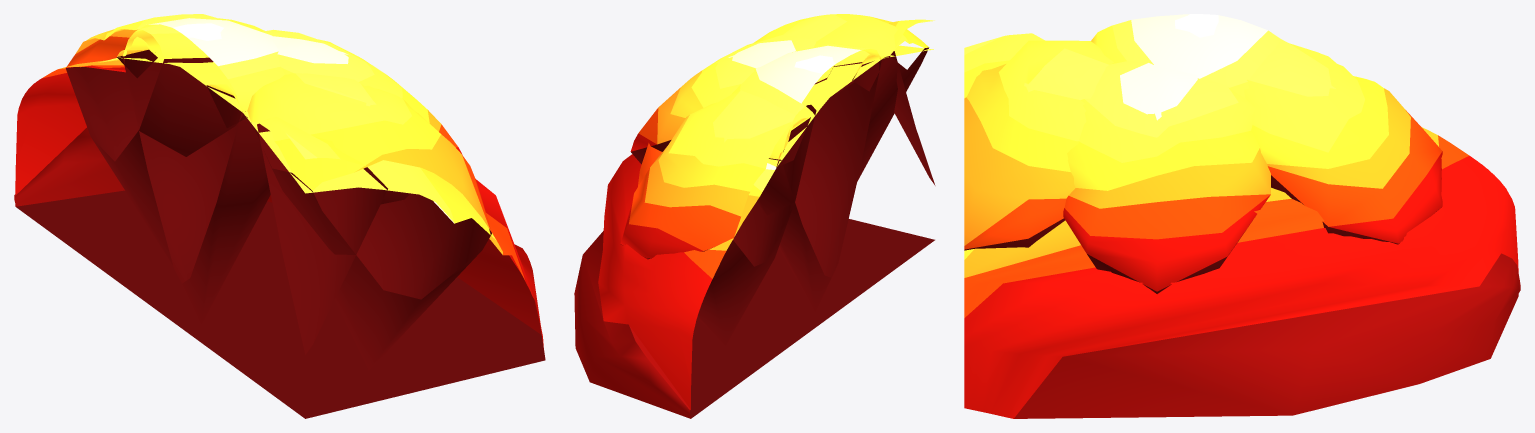
File: shot_dflame_17.glb
The picture shows the model from 3 angles, left to right: view 1: azimuth 30°, elevation 25°; view 2: azimuth 150°, elevation 25°; view 3: azimuth 270°, elevation 25°; orthographic projection. The views are drawn at different scales.
Visible parts, largest first — view 1: dflame_big0_fire_b17, dflame_big0_billow6_b17, dflame_big0_billow0_b17, dflame_big0_billow4_b17, dflame_big0_billow2_b17, dflame_big0_billow3_b17, dflame_big0_billow5_b17, dflame_big0_billow1_b17; view 2: dflame_big0_fire_b17, dflame_big0_billow4_b17, dflame_big0_billow0_b17, dflame_big0_billow6_b17, dflame_big0_billow3_b17, dflame_big0_billow2_b17, dflame_big0_billow5_b17, dflame_big0_billow1_b17; view 3: dflame_big0_fire_b17, dflame_big0_billow3_b17, dflame_big0_billow4_b17, dflame_big0_billow6_b17, dflame_big0_billow0_b17, dflame_big0_billow2_b17.
Part boxes in pixels (x1,y1,x2,y2): dflame_big0_fire_b17: (14, 51, 545, 418); dflame_big0_billow6_b17: (247, 73, 491, 370); dflame_big0_billow0_b17: (122, 18, 284, 323); dflame_big0_billow4_b17: (65, 14, 264, 264); dflame_big0_billow2_b17: (257, 116, 387, 354); dflame_big0_billow3_b17: (261, 29, 462, 311); dflame_big0_billow5_b17: (117, 36, 157, 78); dflame_big0_billow1_b17: (206, 84, 247, 128); dflame_big0_fire_b17: (574, 45, 934, 418); dflame_big0_billow4_b17: (620, 90, 816, 345); dflame_big0_billow0_b17: (731, 43, 881, 311); dflame_big0_billow6_b17: (754, 14, 929, 181); dflame_big0_billow3_b17: (630, 35, 834, 164); dflame_big0_billow2_b17: (889, 19, 935, 185); dflame_big0_billow5_b17: (776, 117, 810, 167); dflame_big0_billow1_b17: (852, 54, 886, 91); dflame_big0_fire_b17: (964, 127, 1520, 418); dflame_big0_billow3_b17: (1063, 61, 1270, 293); dflame_big0_billow4_b17: (1244, 39, 1442, 244); dflame_big0_billow6_b17: (964, 40, 1113, 250); dflame_big0_billow0_b17: (1091, 14, 1281, 98); dflame_big0_billow2_b17: (964, 33, 1044, 98).
Bounding box in the file's own units: 6.92 × 7.27 × 12.99.
